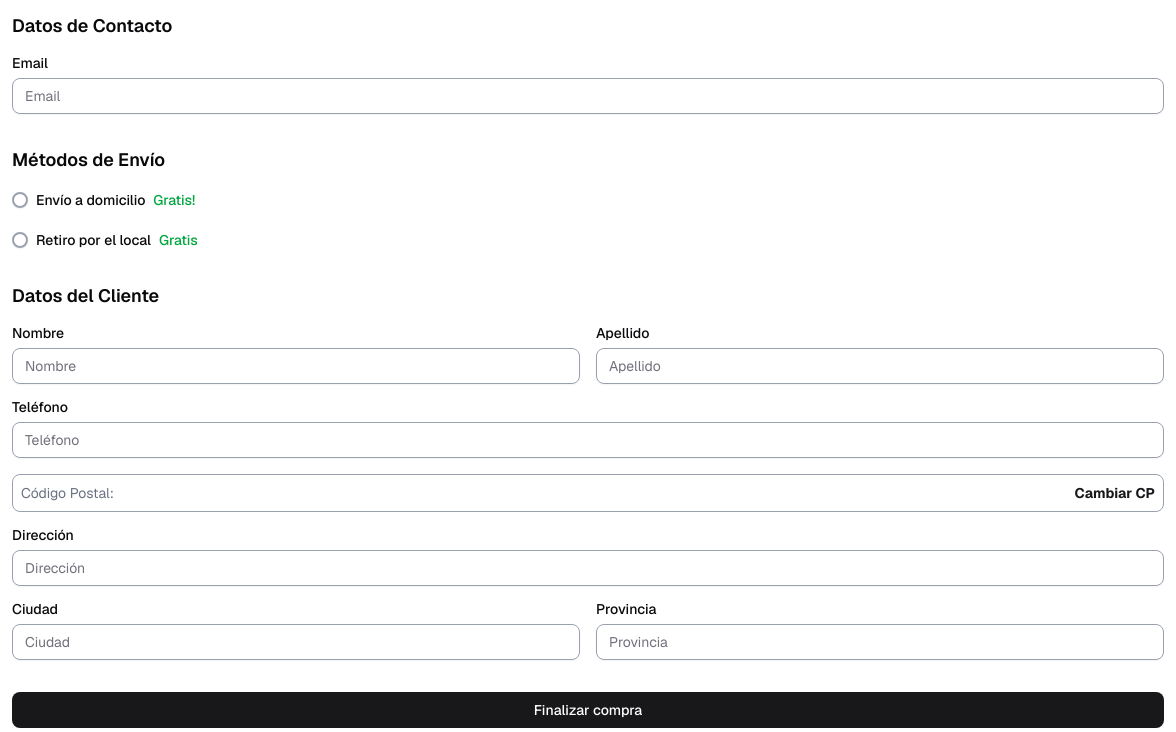
Test case: CheckoutForm Component › Form Validation › shows required field validation messages
What coordinates should you click on to do the following:
click the button "Finalizar compra"
I would click on:
 (588, 710)
Its box is [12,692,1164,728].
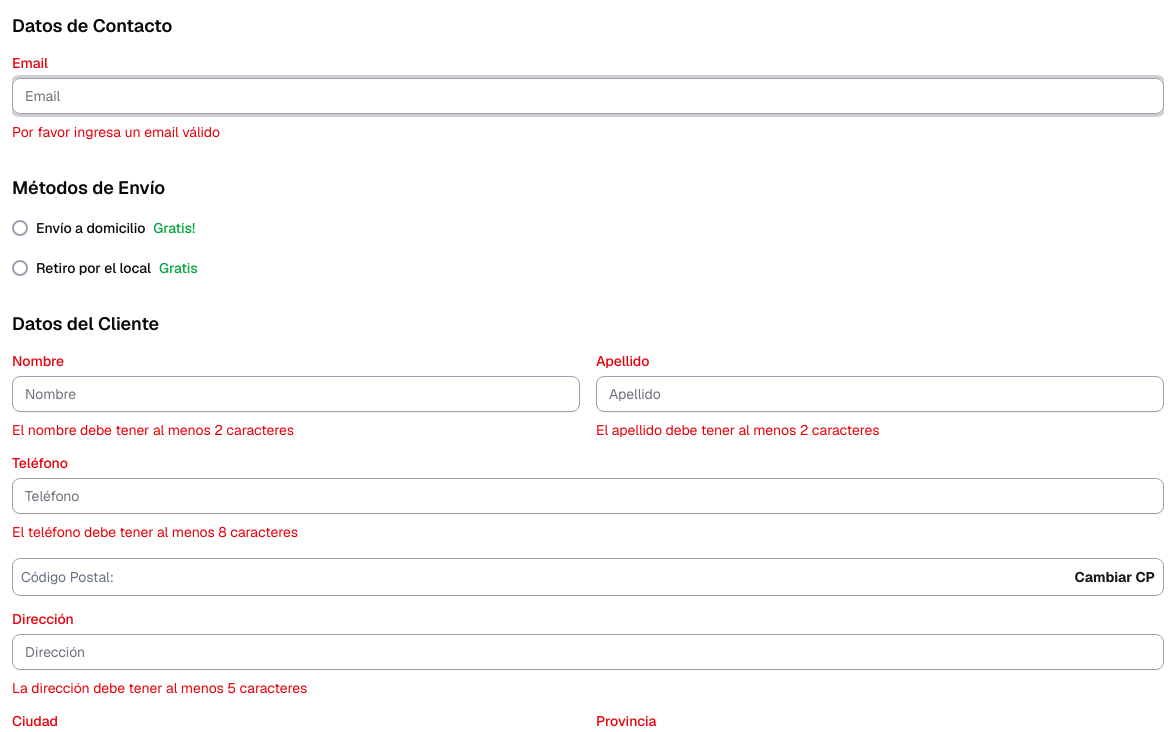
Result: the text "Por favor ingresa un email válido" is shown at [12,123,220,141]
